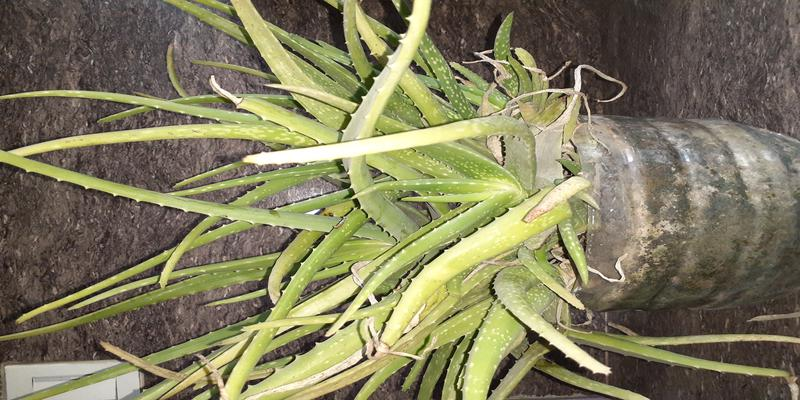Aloevera: (195, 38, 578, 365)
